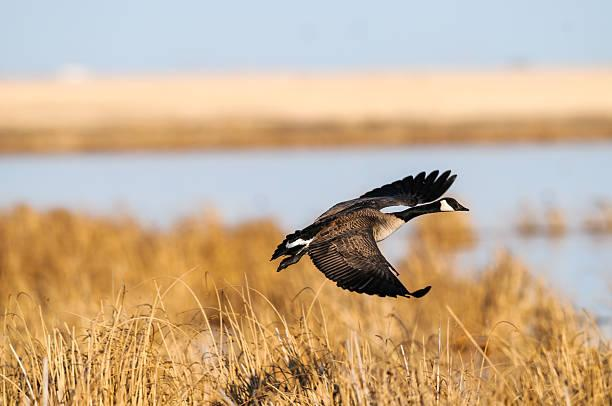Canadian-Goose: (260, 174, 472, 302)
